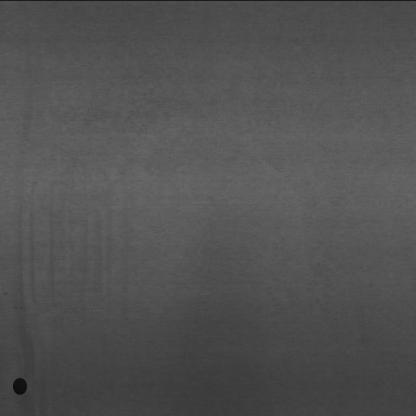punching_hole: (9, 376, 32, 396)
